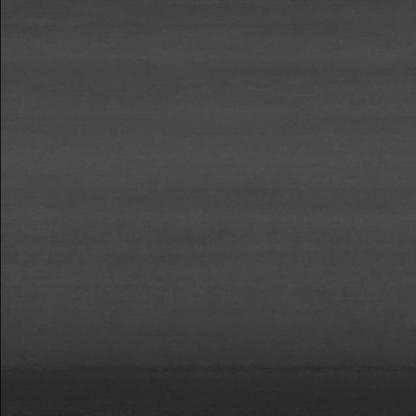silk_spot: (114, 242, 203, 297)
